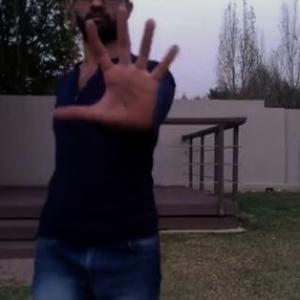follow_hand: (47, 0, 186, 137)
